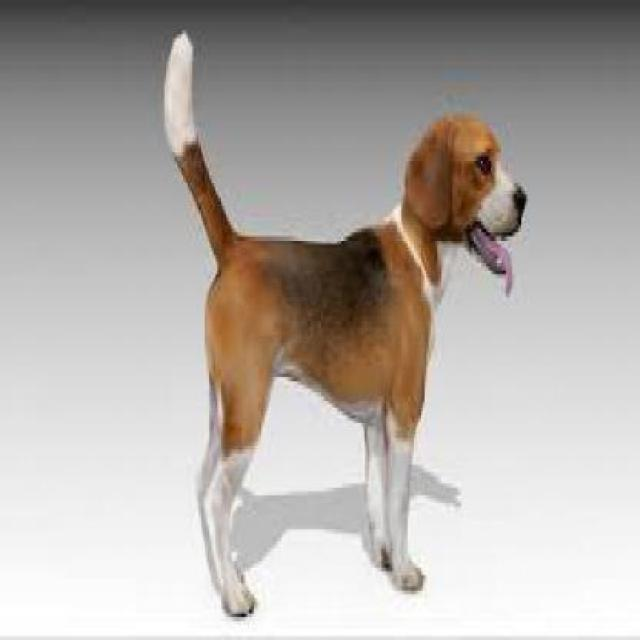Dog: (158, 26, 531, 629)
